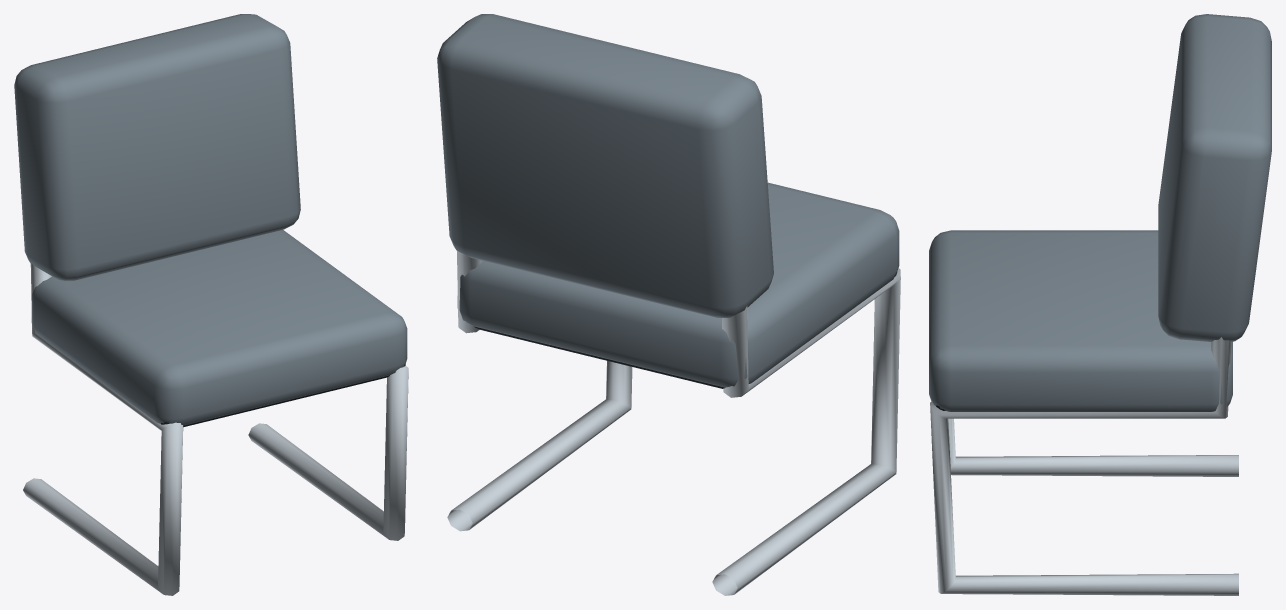
File: cantilever-dining-chair.glb
The picture shows the model from 3 angles, left to right: view 1: azimuth 30°, elevation 25°; view 2: azimuth 150°, elevation 25°; view 3: azimuth 270°, elevation 25°; orthographic projection. The views are drawn at different scales.
Parts seen in each view (by area): view 1: cantilever-dining-chair; view 2: cantilever-dining-chair; view 3: cantilever-dining-chair.
Boxes of the visible parts, bbox=[...] form: cantilever-dining-chair: bbox=[14, 14, 408, 595]; cantilever-dining-chair: bbox=[437, 14, 900, 595]; cantilever-dining-chair: bbox=[929, 14, 1271, 595].
Bounding box in the file's own units: 0.52 × 0.85 × 0.57.
